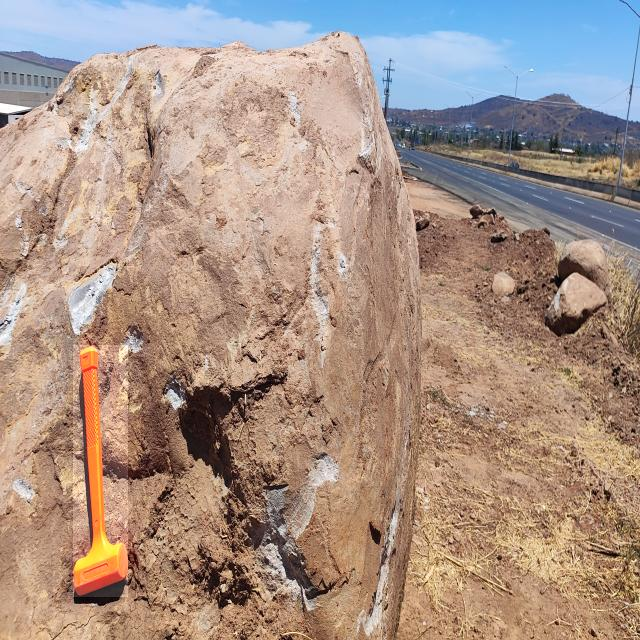Orange_hammer: (73, 345, 128, 597)
